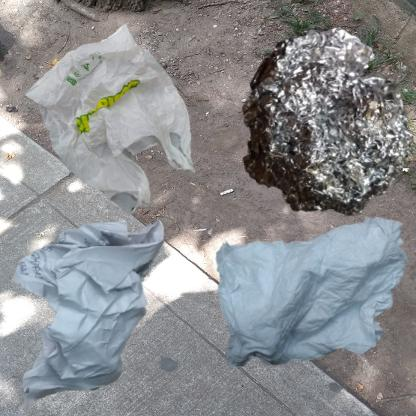aluminio: (213, 10, 416, 252)
bolsa: (10, 10, 215, 226)
papel: (213, 213, 416, 372), (10, 213, 168, 409)
